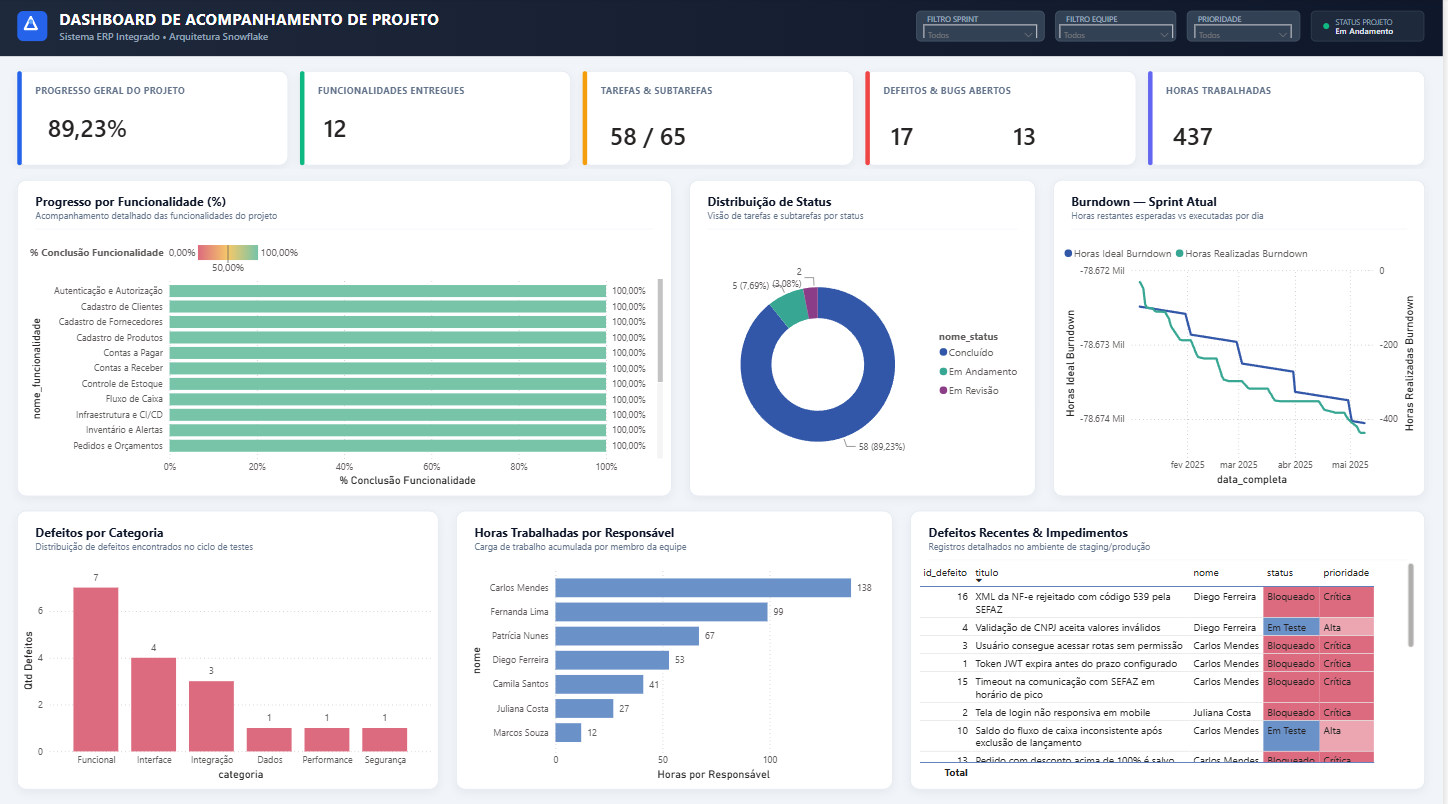

What the dashboard file says about the page in this screenshot:
{"tool":"powerbi","page":{"name":"Página 1","canvas":[1920,1080],"ordinal":0},"visuals":[{"type":"cardVisual","fields":{"Data":["medidas.Progresso Geral %"]},"box":[36.4,129.7,343.2,80.7],"z":0},{"type":"cardVisual","fields":{"Data":["medidas.Funcionalidades Concluídas"]},"box":[403.3,129.7,352.7,80.7],"z":1000},{"type":"cardVisual","fields":{"Data":["medidas.Tarefas Formato Texto"]},"box":[782.9,140.8,352.7,80.7],"z":2000},{"type":"cardVisual","fields":{"Data":["medidas.Bugs Abertos","medidas.Bugs Críticos Abertos"]},"box":[1157.7,140.8,352.7,80.7],"z":3000},{"type":"cardVisual","fields":{"Data":["medidas.Total Horas Trabalhadas"]},"box":[1532.5,140.8,352.7,80.7],"z":4000},{"type":"barChart","fields":{"Category":["Dim_Funcionalidade.nome_funcionalidade"],"Y":["medidas.% Conclusão Funcionalidade"]},"box":[36.4,321.1,852.5,333.7],"z":5000},{"type":"donutChart","fields":{"Category":["Dim_Status.nome_status"],"Y":["medidas.Qtd Tarefas por Status"]},"box":[923.6,321.1,446,333.7],"z":6000},{"type":"lineChart","fields":{"Y":["medidas.Horas Ideal Burndown"],"Y2":["medidas.Horas Realizadas Burndown"],"Category":["Dim_Tempo.data_completa"]},"box":[1410.7,319.5,476,333.7],"z":7000},{"type":"columnChart","fields":{"Category":["Dim_Categoria_Defeito.categoria"],"Y":["medidas.Qtd Defeitos"]},"box":[25.3,746.5,555.1,298.9],"z":8000},{"type":"barChart","fields":{"Category":["Dim_Responsavel.nome"],"Y":["medidas.Horas por Responsável"]},"box":[621.5,746.5,555.1,298.9],"z":9000},{"type":"tableEx","fields":{"Values":["Fact_Defeito.id_defeito","Fact_Defeito.titulo","Dim_Responsavel.nome","Dim_Status.nome_status","Dim_Prioridade.nivel_prioridade"]},"box":[1217.8,746.5,669,298.9],"z":10000},{"type":"slicer","fields":{"Values":["Dim_Sprint.nome_sprint"]},"box":[1220,25.5,170.9,28.2],"z":11000},{"type":"slicer","fields":{"Values":["Dim_Equipe.nome_equipe"]},"box":[1400,25.5,170.9,28.2],"z":12000},{"type":"slicer","fields":{"Values":["Dim_Prioridade.nivel_prioridade"]},"box":[1580,25.5,149.1,28.2],"z":12001}]}

Visuals, with their boxes in screenshot pixels (x1, y1, x2, y2), scaled from the page's 1920x1080 canvas onto the 1448x804 screenshot:
cardVisual - medidas.Progresso Geral %: box(27, 97, 286, 157)
cardVisual - medidas.Funcionalidades Concluídas: box(304, 97, 570, 157)
cardVisual - medidas.Tarefas Formato Texto: box(590, 105, 856, 165)
cardVisual - medidas.Bugs Abertos x medidas.Bugs Críticos Abertos: box(873, 105, 1139, 165)
cardVisual - medidas.Total Horas Trabalhadas: box(1156, 105, 1422, 165)
barChart - Dim_Funcionalidade.nome_funcionalidade x medidas.% Conclusão Funcionalidade: box(27, 239, 670, 487)
donutChart - Dim_Status.nome_status x medidas.Qtd Tarefas por Status: box(697, 239, 1033, 487)
lineChart - medidas.Horas Ideal Burndown x medidas.Horas Realizadas Burndown: box(1064, 238, 1423, 486)
columnChart - Dim_Categoria_Defeito.categoria x medidas.Qtd Defeitos: box(19, 556, 438, 778)
barChart - Dim_Responsavel.nome x medidas.Horas por Responsável: box(469, 556, 887, 778)
tableEx - Fact_Defeito.id_defeito x Fact_Defeito.titulo: box(918, 556, 1423, 778)
slicer - Dim_Sprint.nome_sprint: box(920, 19, 1049, 40)
slicer - Dim_Equipe.nome_equipe: box(1056, 19, 1185, 40)
slicer - Dim_Prioridade.nivel_prioridade: box(1192, 19, 1304, 40)
